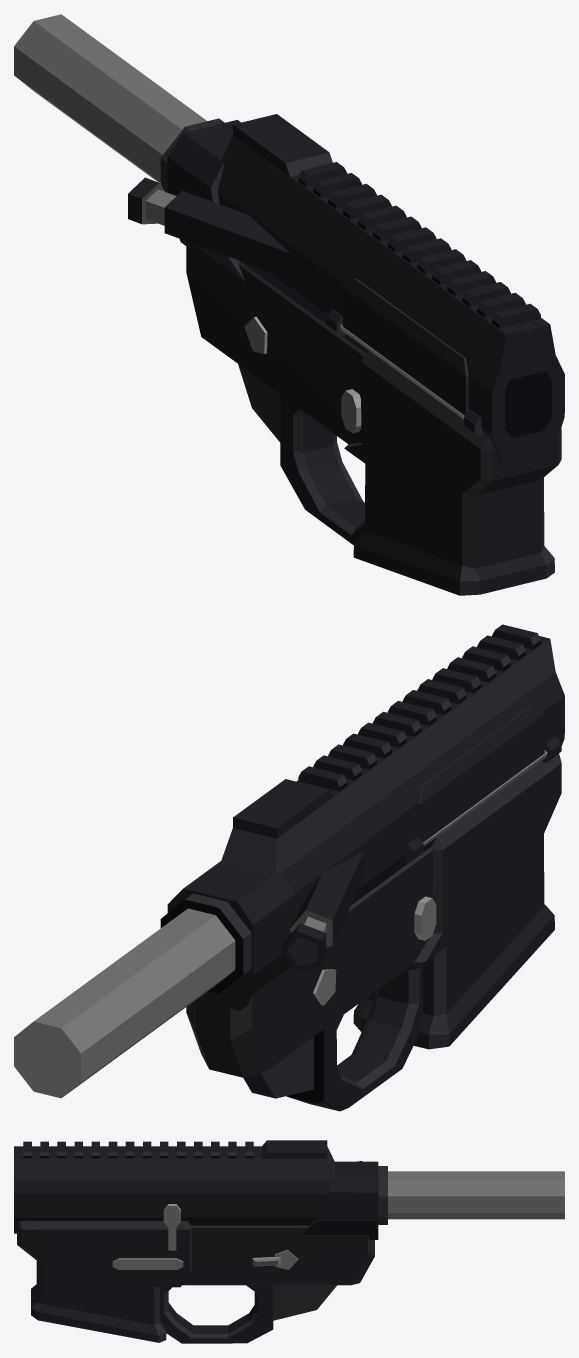
Rendered from MW1_Platform_5.56mm_01.fbx.
3 renders of one model, top to bottom at view 1: azimuth 30°, elevation 25°; view 2: azimuth 150°, elevation 25°; view 3: azimuth 270°, elevation 25°, orthographic. The views are drawn at different scales.
Parts seen in each view (by area): view 1: Platform_5.56mm_01, 5.56mm_Platform_01_Slide_Cover; view 2: Platform_5.56mm_01, 5.56mm_Platform_01_Slide_Cover; view 3: Platform_5.56mm_01.
Boxes of the visible parts, left/top/right/bottom form: Platform_5.56mm_01: left=14, top=14, right=564, bottom=595; 5.56mm_Platform_01_Slide_Cover: left=340, top=278, right=468, bottom=419; Platform_5.56mm_01: left=14, top=624, right=564, bottom=1111; 5.56mm_Platform_01_Slide_Cover: left=418, top=706, right=547, bottom=846; Platform_5.56mm_01: left=14, top=1140, right=564, bottom=1343.
Size of the model in its own units: 5.63 by 12.46 by 32.28.
